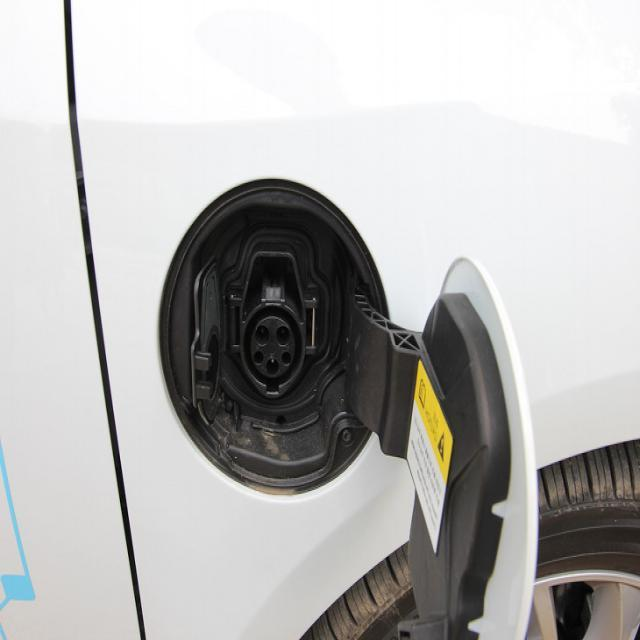Type 1: (212, 299, 322, 397)
